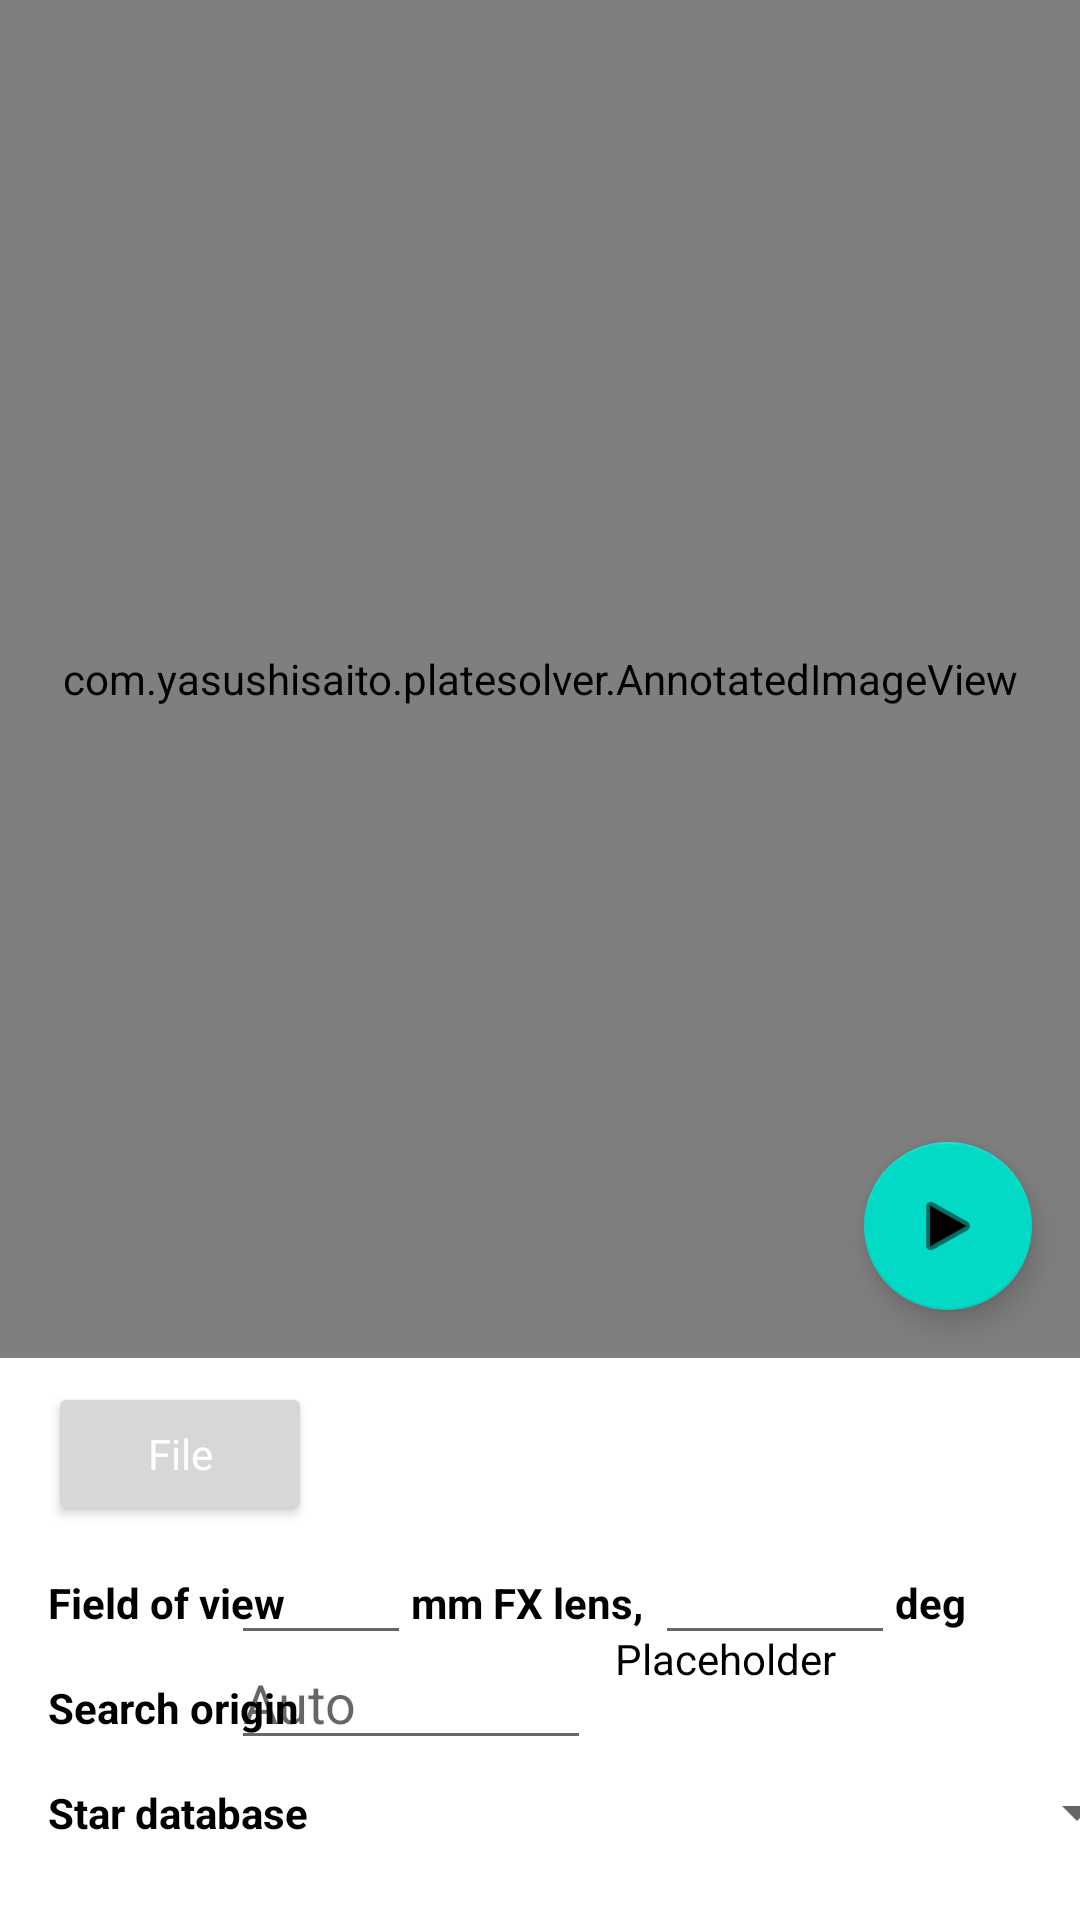

Icon click points for this 1080px×1920px phone screenshot, format [x,y]:
Run the Astap platesolver: [948,1226]
